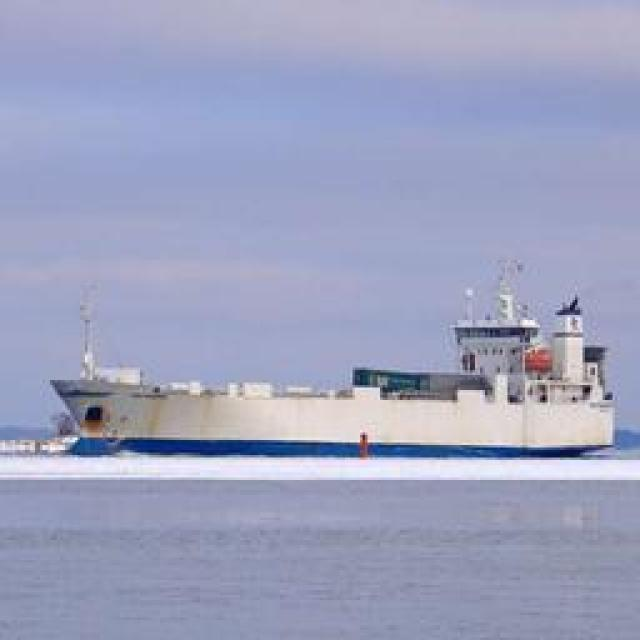Ship: (46, 263, 621, 468)
